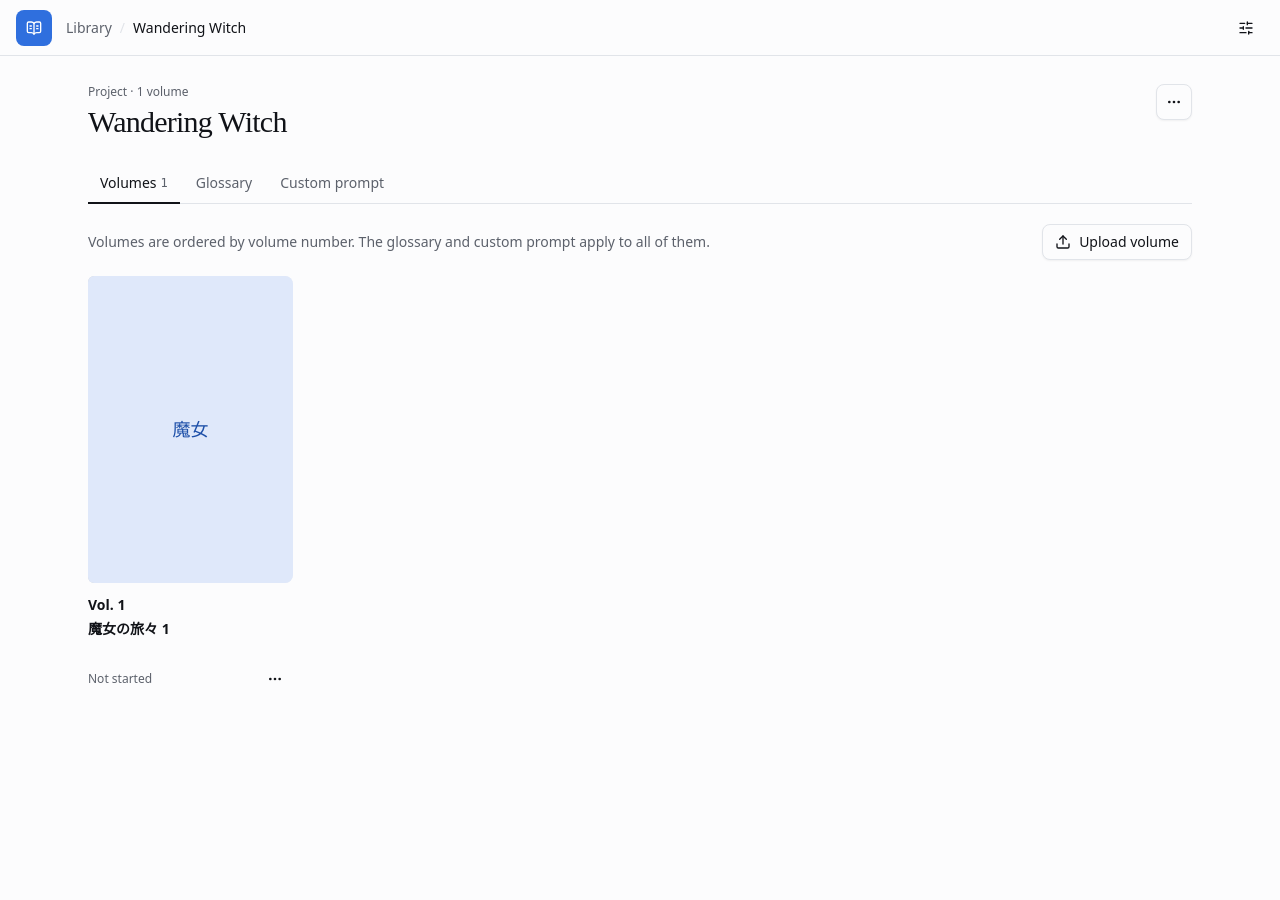
Test: volume number on the project page › cancelling the volume number edit keeps the number
Click the button named "Vol. 1 actions".
click(275, 679)  # box [257, 661, 293, 697]
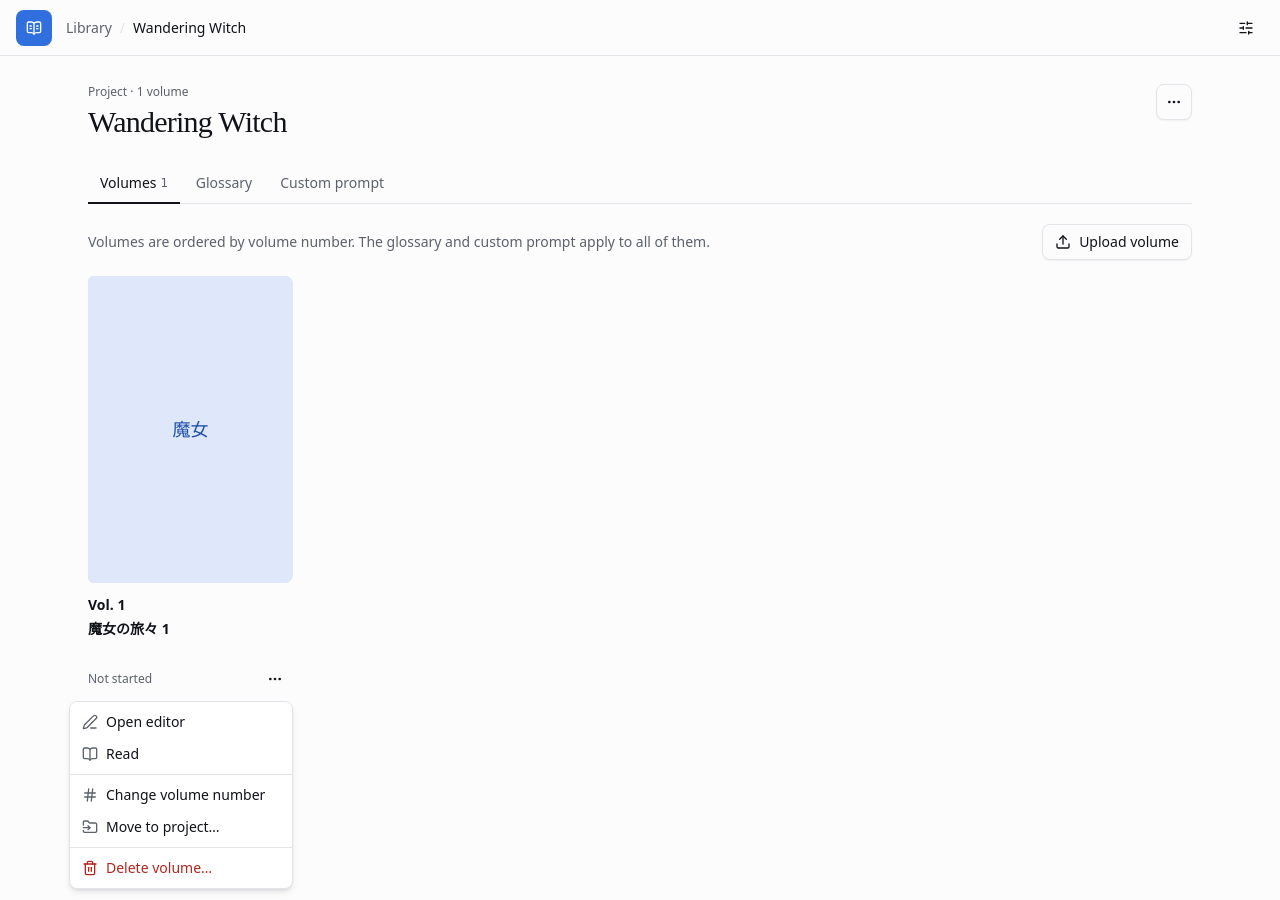
Click the menu item "Change volume number".
click(174, 794)  # box [82, 785, 265, 804]
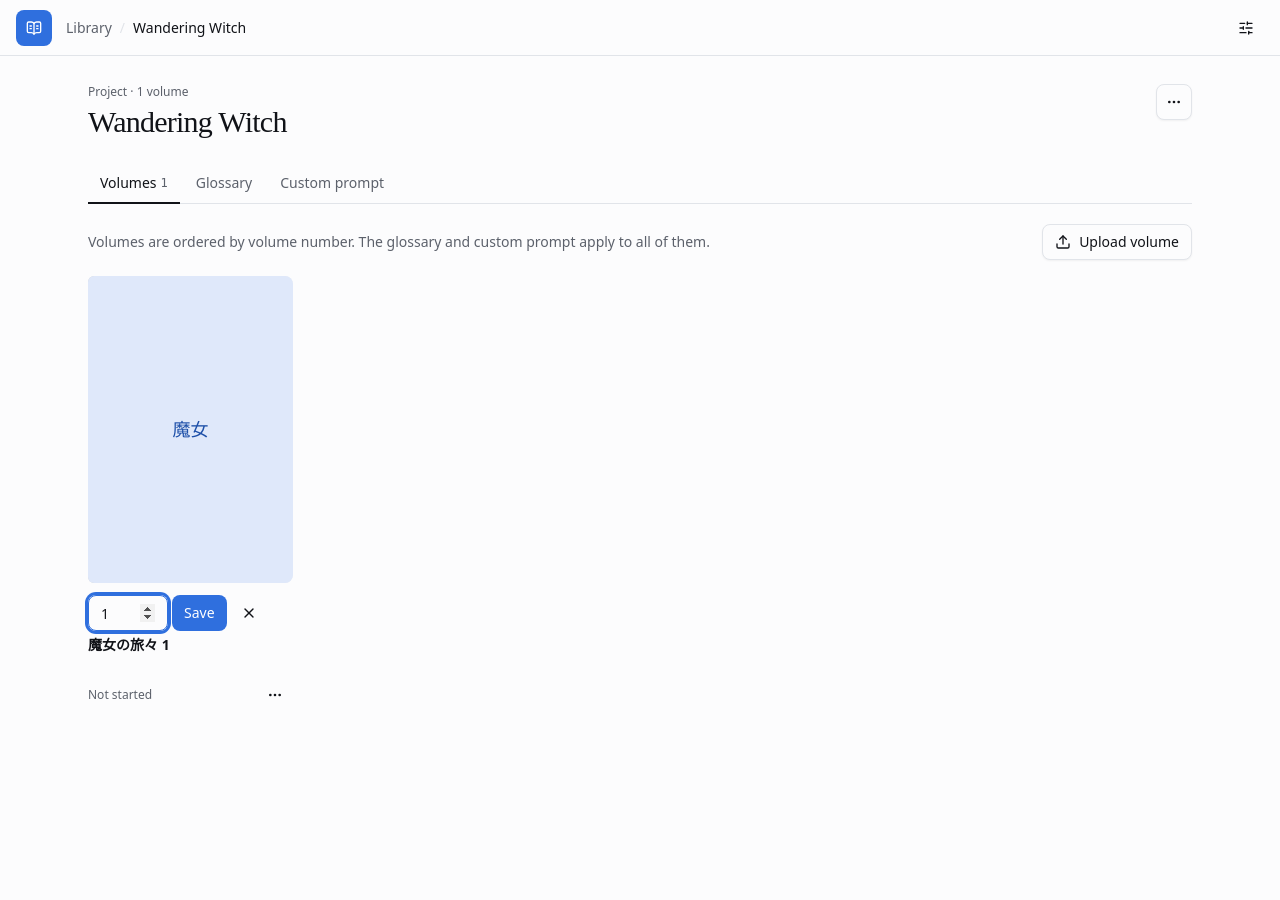
Type "4" into the number field named "Volume number of 魔女の旅々 1".
click(128, 613); type("4")  # box [88, 595, 168, 631]
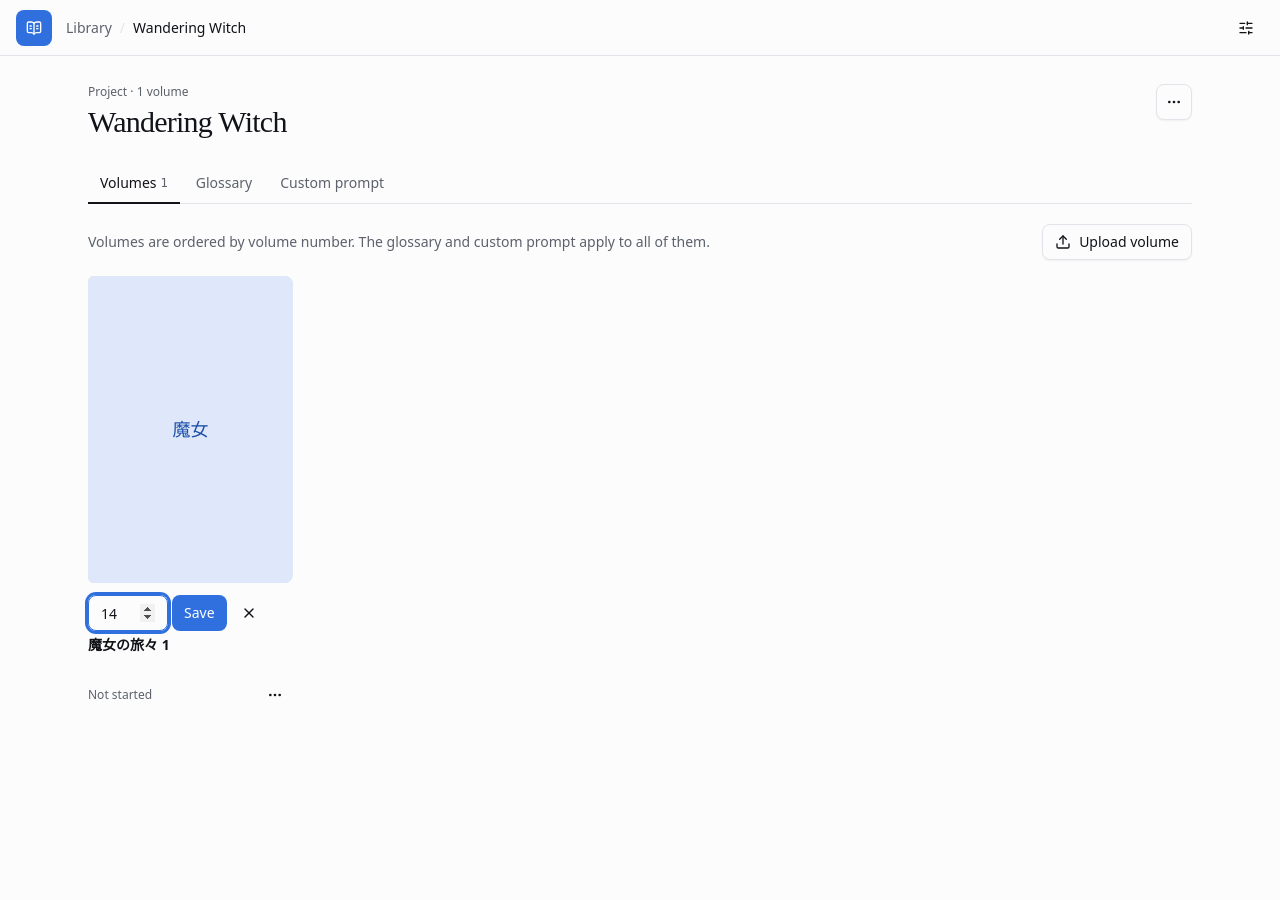
Click the button named "Cancel".
click(249, 613)  # box [231, 595, 267, 631]
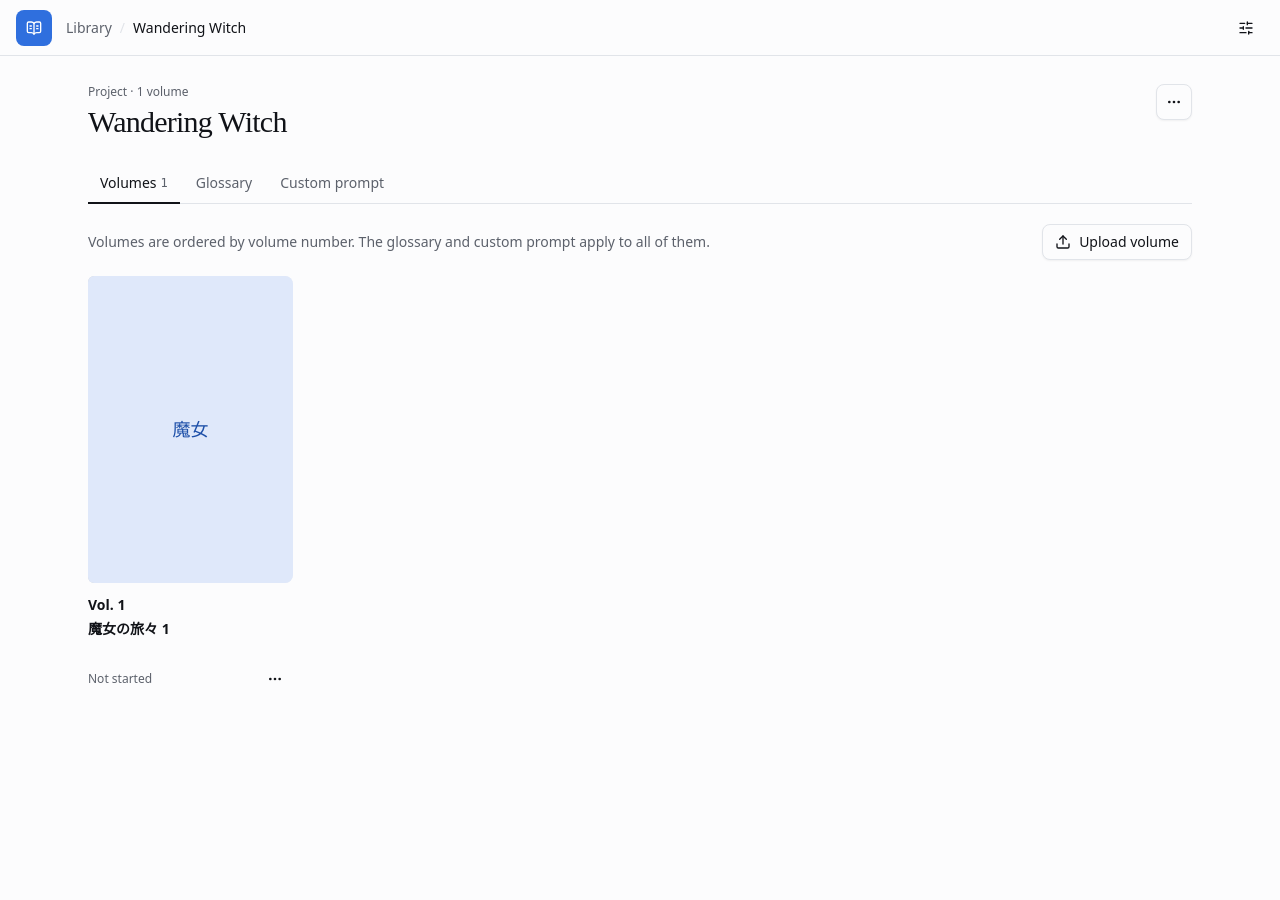
Check: the text "Vol. 1" is shown, box [88, 595, 125, 614]
